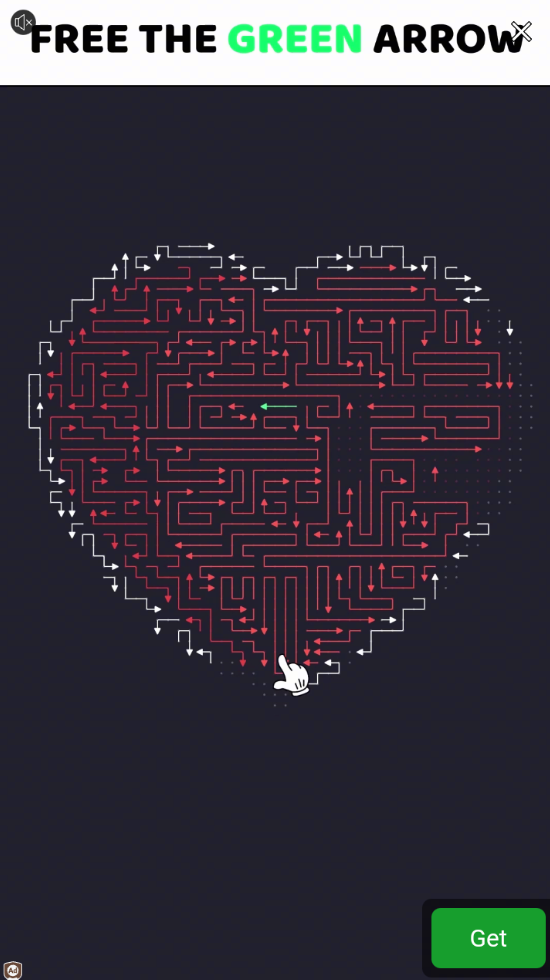close_button: (507, 17, 536, 46)
